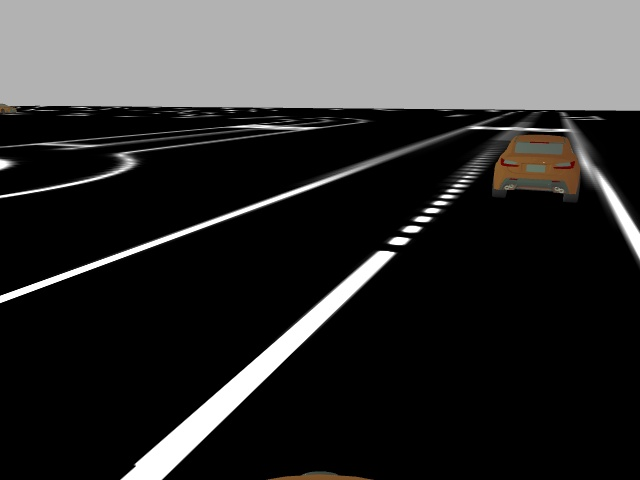obstacle_car: (488, 133, 587, 204)
